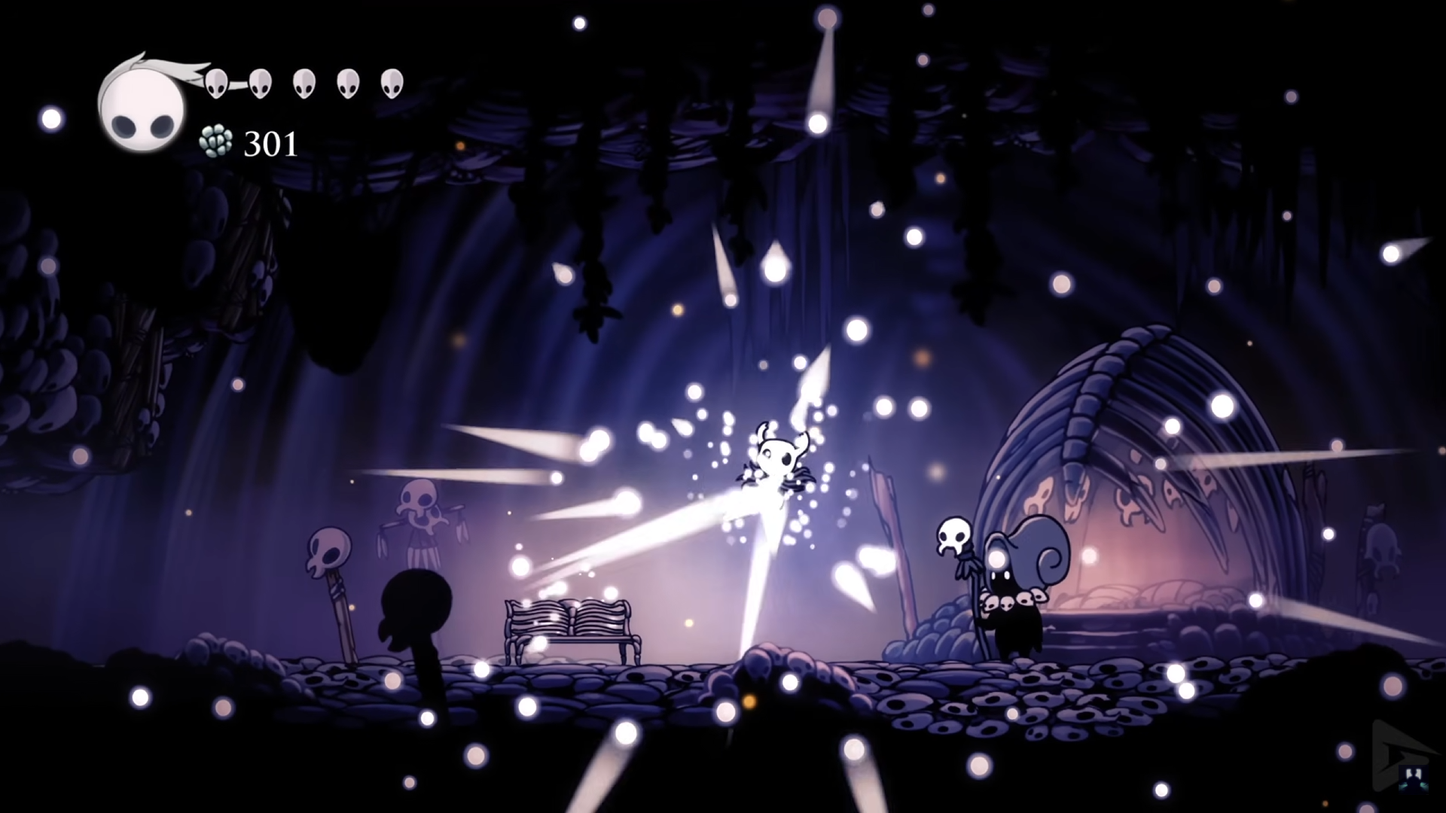HK: (744, 420, 808, 519)
